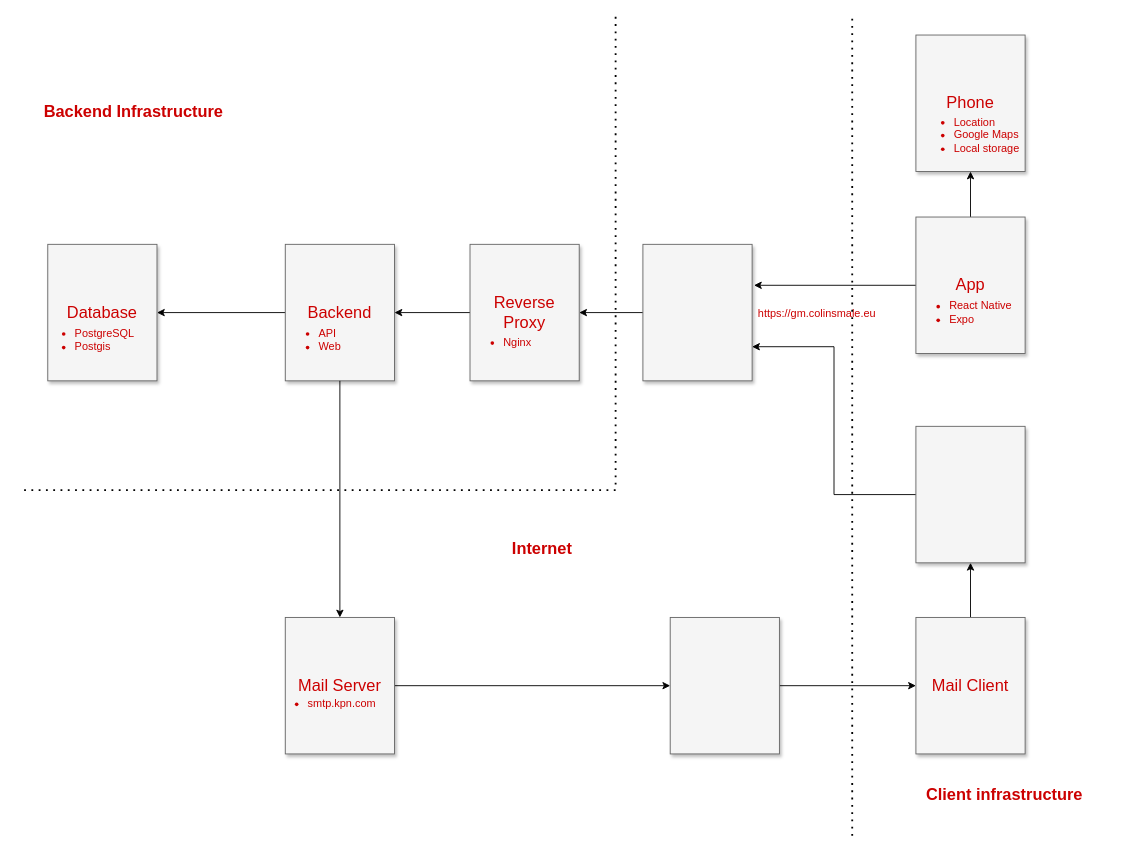
Some shapes in this 1138 by 853 pixel diagram are drawn without their labels. Each missing label, with the centre of its shape:
Browser: point (971, 495)
Cloudflare: point (698, 313)
User Mail Server: point (725, 686)
